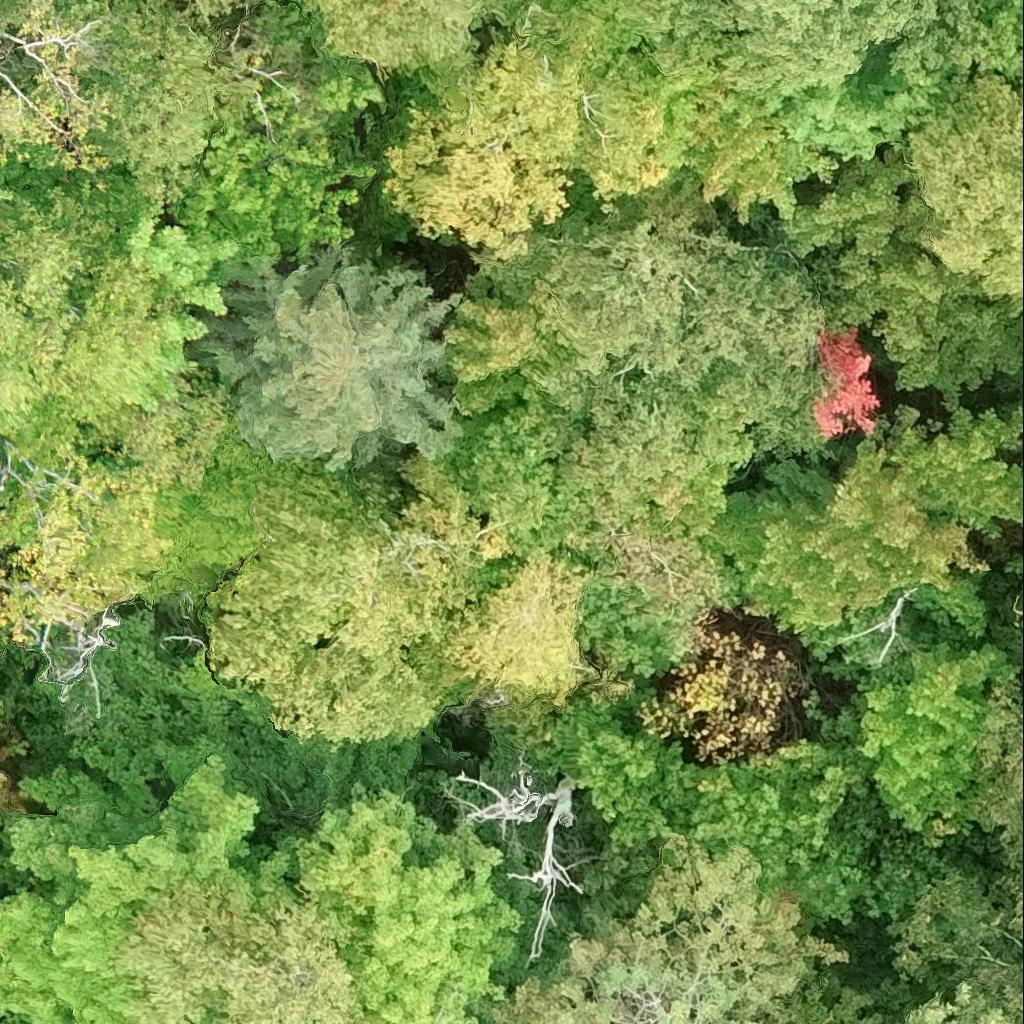crown: (198, 449, 550, 748), (0, 742, 317, 1023), (527, 216, 823, 504), (707, 407, 1023, 675), (381, 5, 686, 261), (531, 701, 854, 936), (490, 836, 848, 1023), (0, 0, 262, 231), (195, 254, 465, 471), (297, 783, 523, 1023), (0, 185, 162, 436), (173, 70, 385, 259), (120, 879, 386, 1023), (108, 202, 280, 411), (413, 549, 603, 738), (0, 458, 177, 648), (901, 76, 1023, 309), (860, 643, 1012, 829), (583, 0, 888, 89), (591, 374, 751, 539), (453, 763, 579, 959), (256, 0, 520, 82), (641, 630, 804, 762), (893, 871, 1023, 1023), (428, 296, 574, 418), (948, 654, 1023, 875), (868, 0, 982, 84), (898, 982, 1013, 1023), (0, 696, 22, 765), (0, 174, 18, 225), (1012, 603, 1023, 626), (0, 774, 6, 795)
